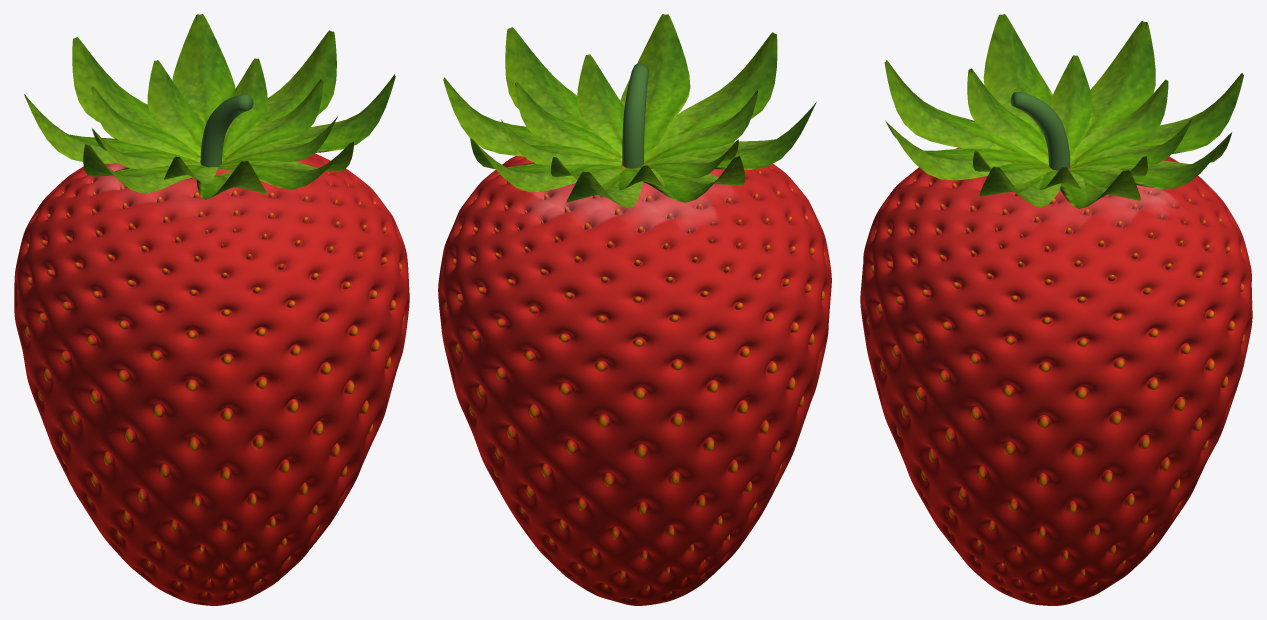
File: Strawberry_gltf.gltf
3 views of the same model, side by side, from view 1: azimuth 30°, elevation 25°; view 2: azimuth 150°, elevation 25°; view 3: azimuth 270°, elevation 25° (orthographic).
Visible parts, largest first — view 1: strawberry; view 2: strawberry; view 3: strawberry.
Part boxes in pixels (x1,y1,x2,y2): strawberry: (14,14,409,605); strawberry: (438,14,831,605); strawberry: (860,14,1252,605).
Bounding box in the file's own units: 4.9 × 7.08 × 4.9.
Materials: 1 (1 with a texture image).
